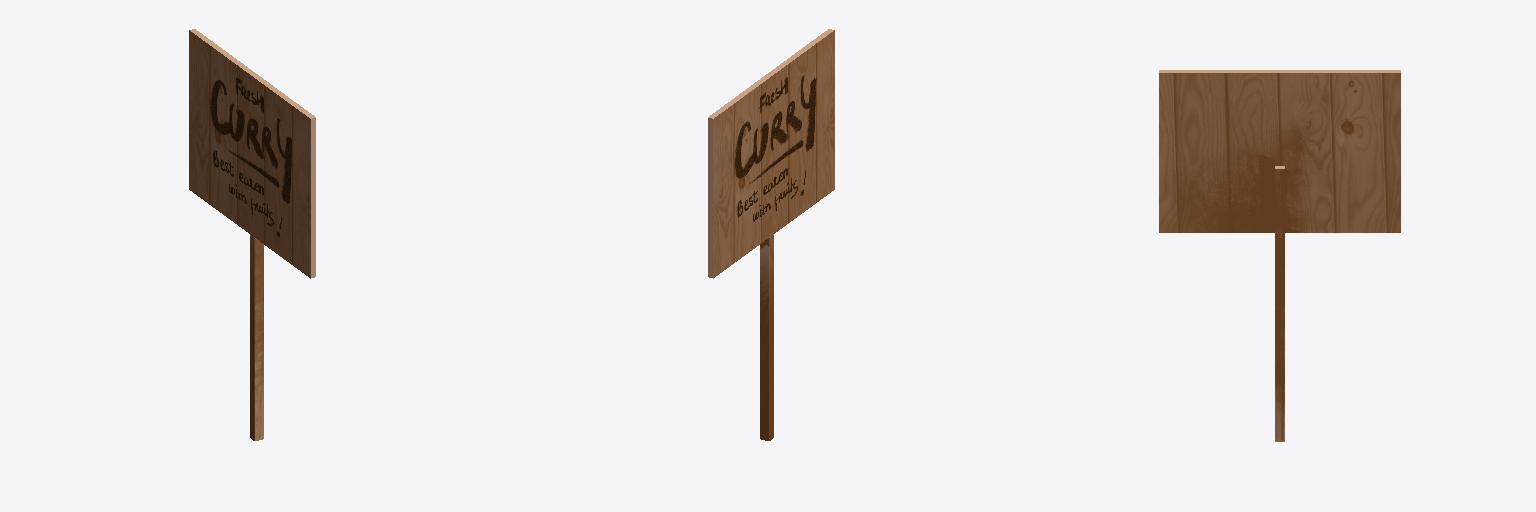
The picture shows the model from 3 angles: view 1: azimuth 30°, elevation 25°; view 2: azimuth 150°, elevation 25°; view 3: azimuth 270°, elevation 25°; orthographic projection.
Visible parts, largest first — view 1: Cube.001_Material; view 2: Cube.001_Material; view 3: Cube.001_Material.
Part boxes in pixels (bbox=[...]): Cube.001_Material: bbox=[189, 29, 315, 440]; Cube.001_Material: bbox=[708, 29, 834, 440]; Cube.001_Material: bbox=[1159, 70, 1400, 441].
Bounding box in the file's own units: 8.84 × 256 × 154.
1 materials, 1 textured.